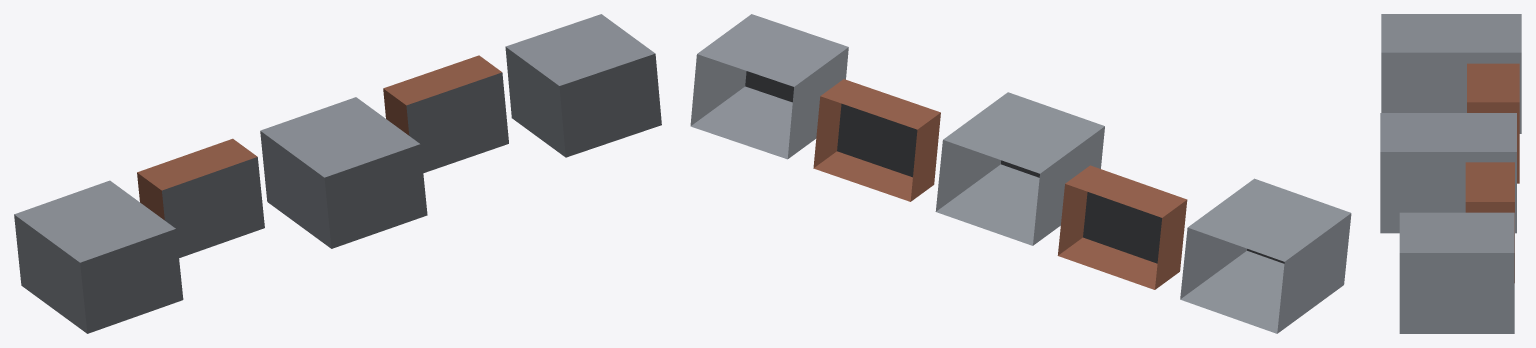
The model's file is island_bldg_22_09.obj.
3 views of the same model, side by side, from view 1: azimuth 30°, elevation 25°; view 2: azimuth 150°, elevation 25°; view 3: azimuth 270°, elevation 25° (orthographic). The views are drawn at different scales.
Parts seen in each view (by area): view 1: island_bldg_22_09; view 2: island_bldg_22_09; view 3: island_bldg_22_09.
Boxes of the visible parts, <box> form: island_bldg_22_09: <box>14,14,661,333</box>; island_bldg_22_09: <box>690,14,1351,333</box>; island_bldg_22_09: <box>1380,14,1521,333</box>.
Size of the model in its own units: 135 by 29.07 by 26.28.
